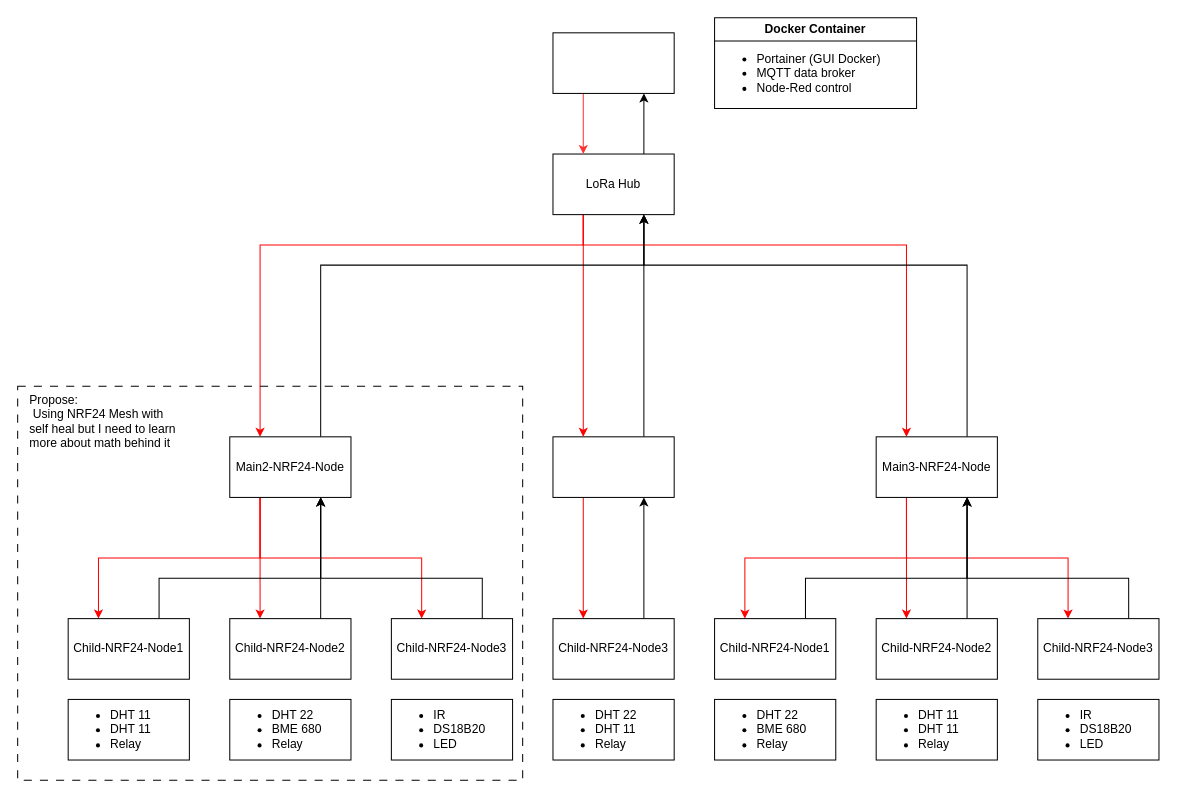
Some shapes in this 1177 by 798 pixel diagram are drawn without their labels. The centre of each missing label's shape, as x and y in pixels:
"Main1-NRF24-Node" goes at point (613, 466).
"Server" goes at point (613, 62).
